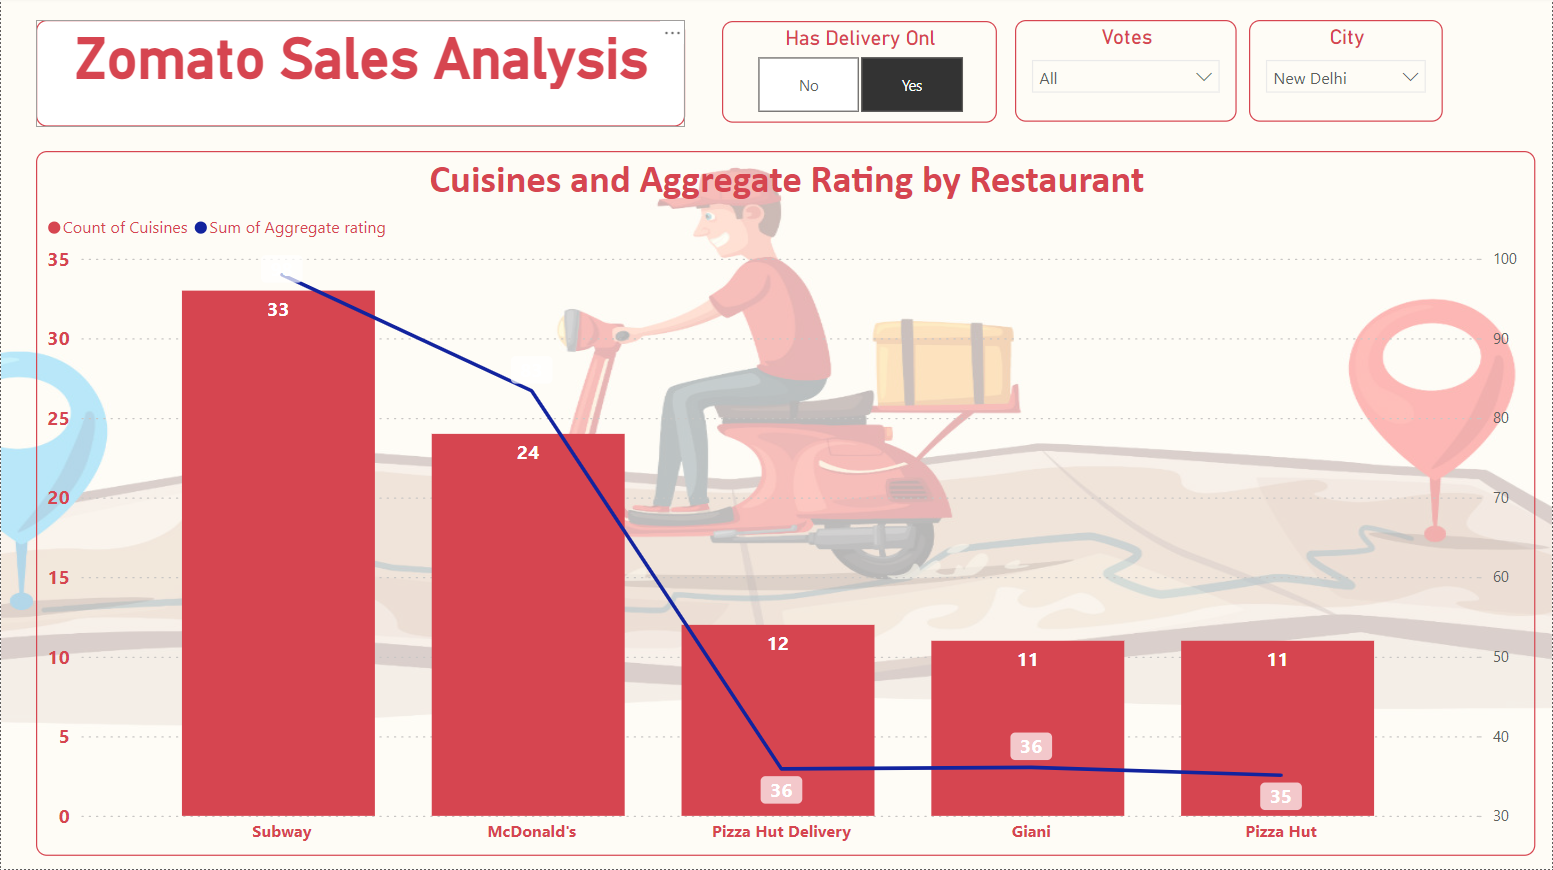

This screenshot's page, from the dashboard's own definition file:
{"tool":"powerbi","page":{"name":"Page 1","canvas":[1280,720],"ordinal":0},"visuals":[{"type":"textbox","title":"Zomato Sales Analysis","box":[28.9,19.2,536,88.3],"z":0},{"type":"slicer","title":"Has Delivery Onl","fields":{"Values":["Clean Zamoto Data.Has Online delivery"]},"box":[595.4,19.4,226.5,84.1],"z":1000},{"type":"slicer","title":"City","fields":{"Values":["Clean Zamoto Data.City"]},"box":[1030.8,19.2,160,83.9],"z":3000},{"type":"lineStackedColumnComboChart","title":"Cuisines and Aggregate Rating by Restaurant","fields":{"Category":["Clean Zamoto Data.Restaurant Name"],"Y":["CountNonNull(Clean Zamoto Data.Cuisines)"],"Y2":["Sum(Clean Zamoto Data.Aggregate rating)"]},"box":[28.9,126.8,1238,582.3],"z":4000},{"type":"slicer","title":"Votes","fields":{"Values":["Clean Zamoto Data.Votes"]},"box":[837.6,19.2,182.7,83.9],"z":4001}]}

Visuals, with their boxes in screenshot pixels (x1, y1, x2, y2), scaled from the page's 1280x720 canvas onto the 1553x870 screenshot:
"Zomato Sales Analysis" textbox: detection(35, 23, 685, 130)
"Has Delivery Onl" slicer: detection(722, 23, 997, 125)
"City" slicer: detection(1251, 23, 1445, 125)
"Cuisines and Aggregate Rating by Restaurant" lineStackedColumnComboChart: detection(35, 153, 1537, 857)
"Votes" slicer: detection(1016, 23, 1238, 125)
